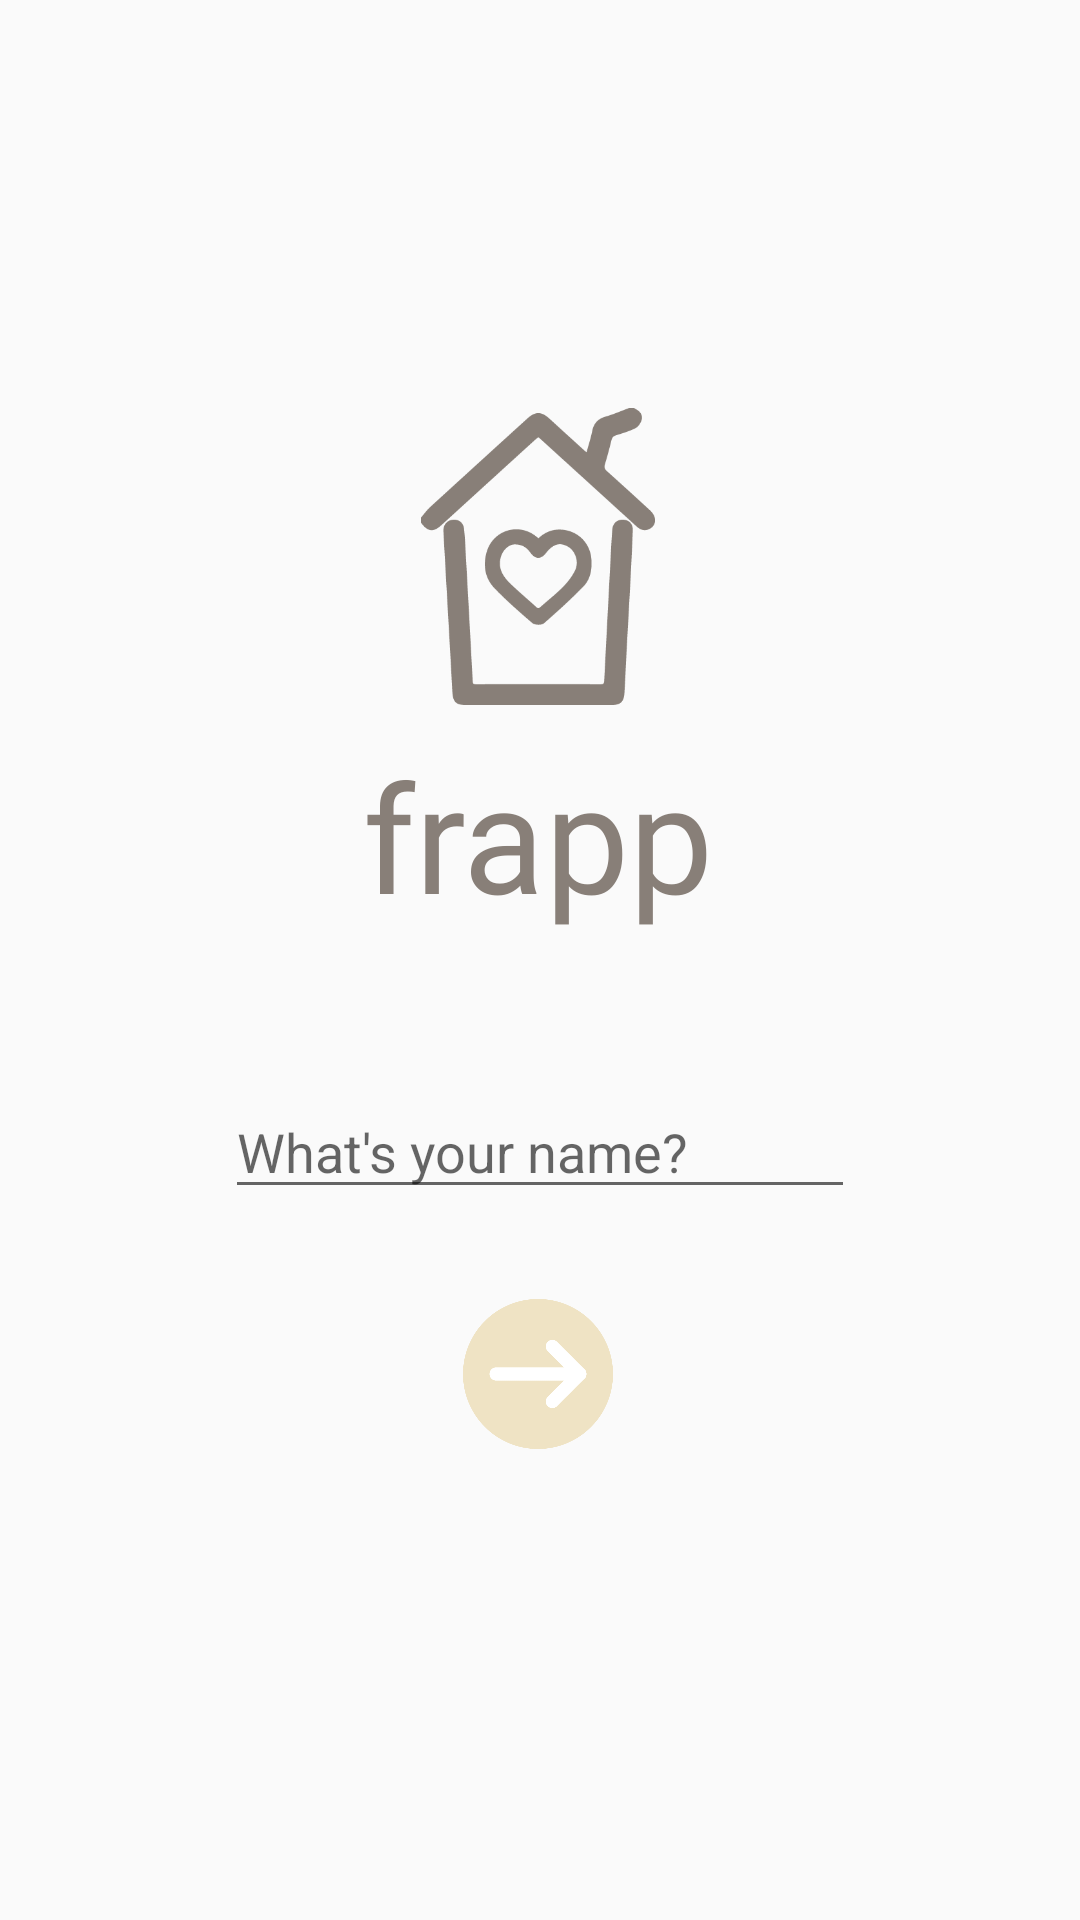

Icons on this 1080 x 1920 Android screen, each with the point to tap as [x,y]:
next arrow: [538,1374]
